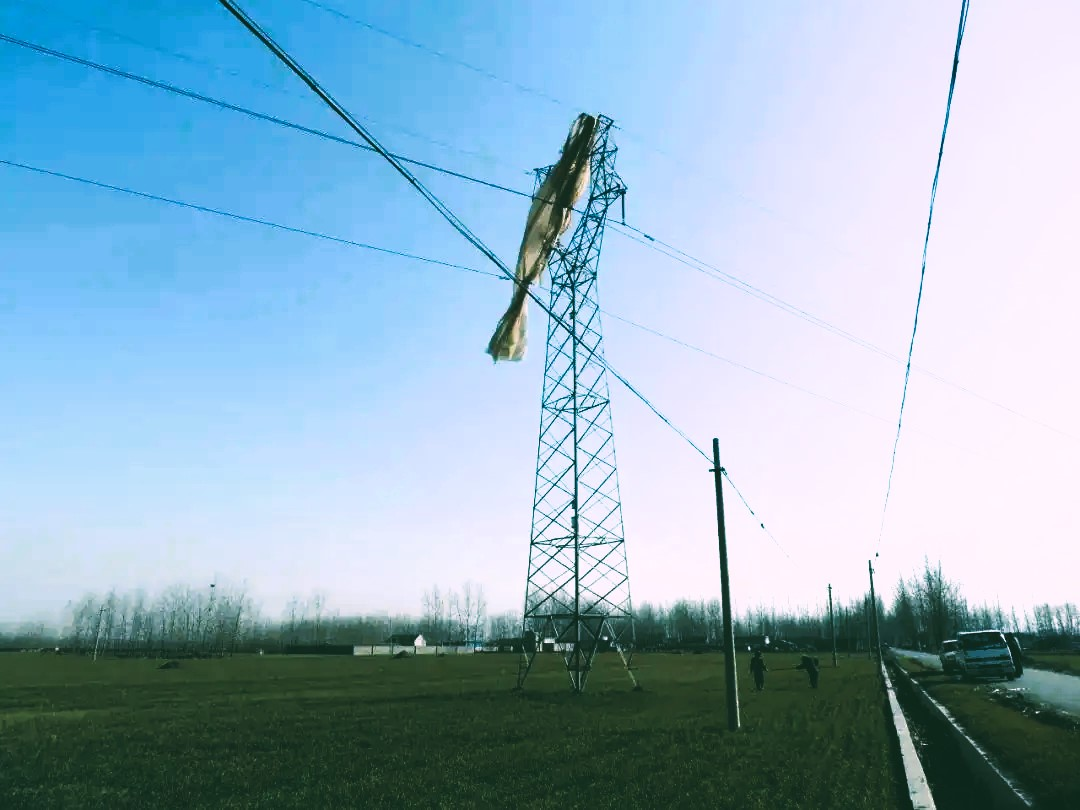wire foreign body: (472, 102, 603, 369)
